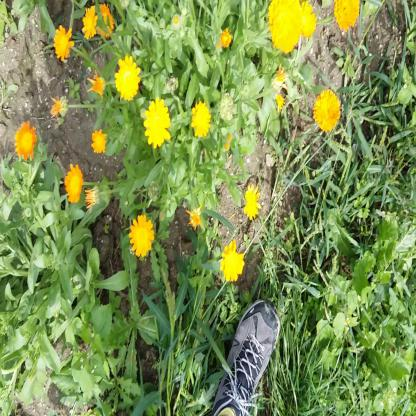marigold: (266, 0, 300, 53), (144, 96, 170, 145), (115, 55, 139, 101), (314, 89, 340, 129), (222, 240, 244, 284), (130, 214, 152, 257), (14, 122, 38, 158), (52, 24, 74, 63), (334, 0, 361, 31), (63, 164, 82, 202), (191, 101, 210, 137), (82, 4, 98, 40), (245, 185, 261, 221), (300, 1, 316, 36), (90, 130, 106, 152)
